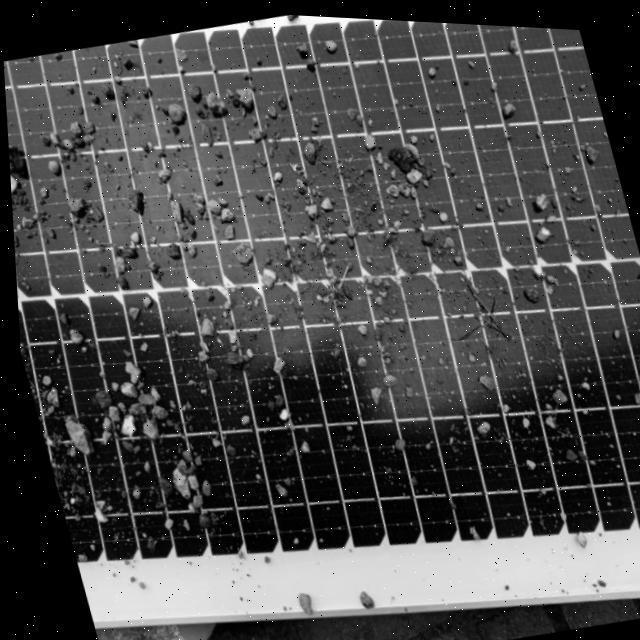Surface Contaminant: (3, 13, 640, 622)
